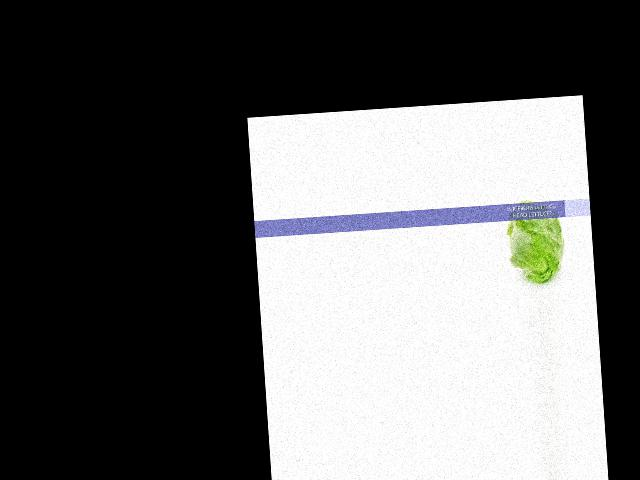lettuce: (504, 197, 564, 289)
